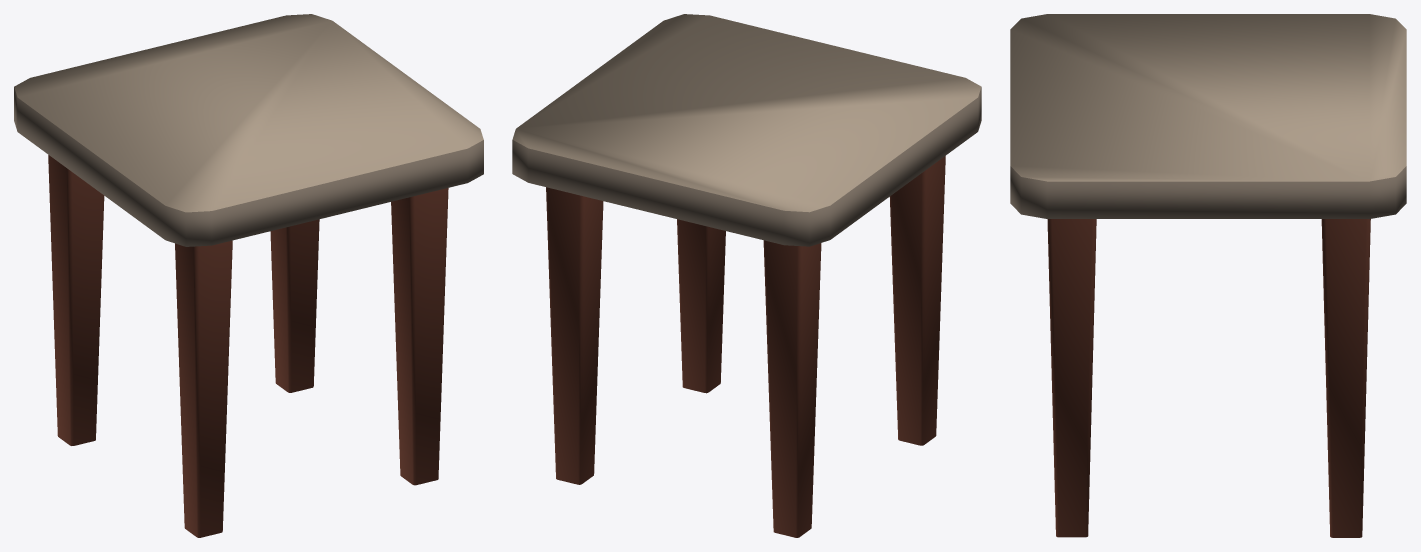
Rendered from PROP_Stool.fbx.
The picture shows the model from 3 angles, left to right: view 1: azimuth 30°, elevation 25°; view 2: azimuth 150°, elevation 25°; view 3: azimuth 270°, elevation 25°; orthographic projection. The views are drawn at different scales.
Parts seen in each view (by area): view 1: Stool; view 2: Stool; view 3: Stool.
Boxes of the visible parts, <box> form: Stool: <box>14,14,483,537</box>; Stool: <box>512,14,981,537</box>; Stool: <box>1010,14,1406,537</box>.
Bounding box in the file's own units: 0.4678 × 0.4889 × 0.4678.
